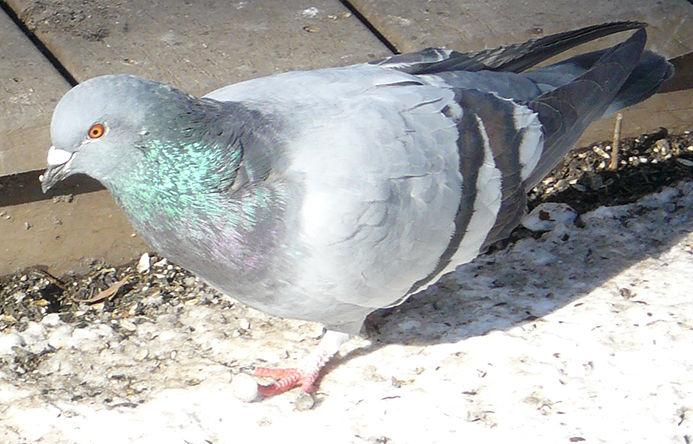Flying Rat: (42, 38, 693, 405)
